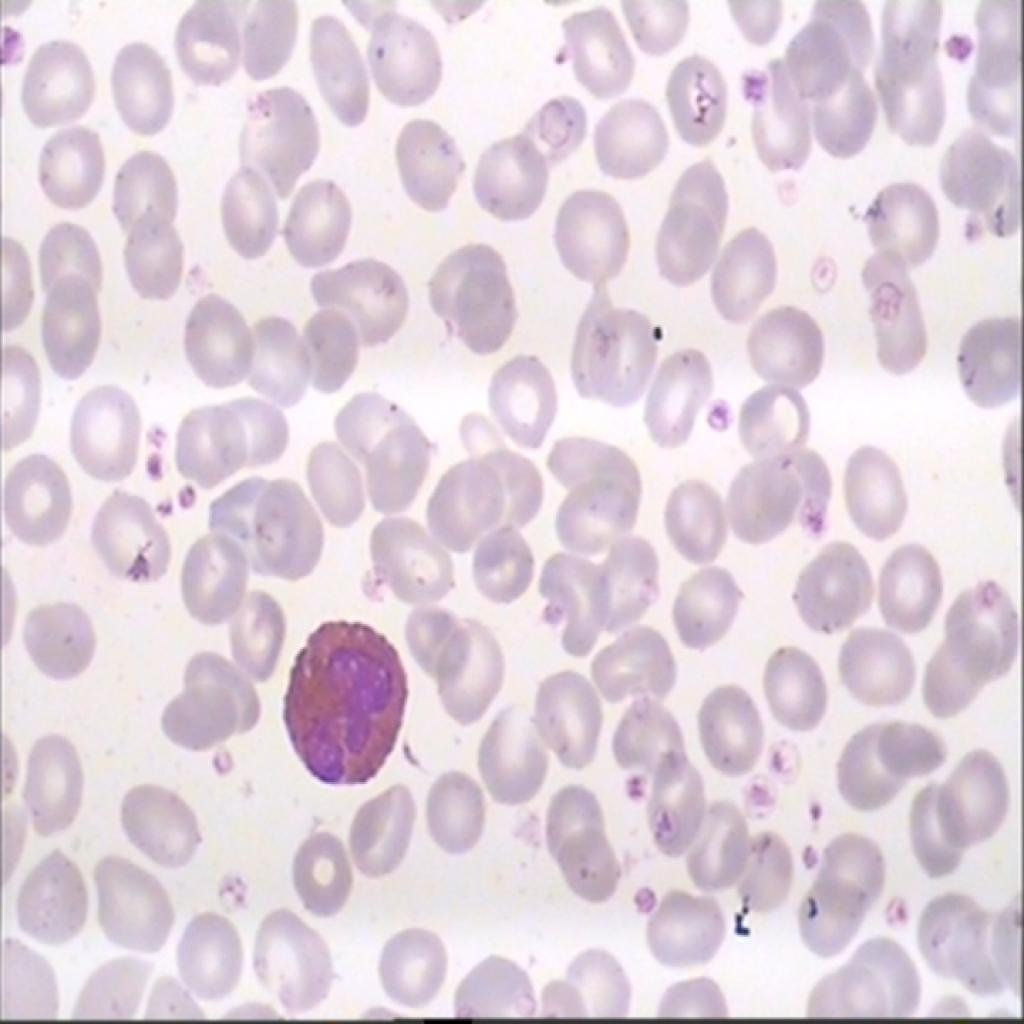Eosinofil: (272, 597, 412, 807)
Platelet: (611, 759, 660, 811), (936, 22, 980, 70), (801, 494, 835, 553), (710, 390, 745, 446), (734, 60, 768, 112), (624, 871, 660, 919), (799, 789, 839, 832), (873, 270, 903, 327), (788, 832, 821, 880), (171, 469, 199, 523), (138, 416, 173, 457), (731, 768, 765, 809), (959, 199, 984, 253), (768, 741, 801, 779), (141, 444, 168, 490), (154, 482, 175, 524), (882, 889, 910, 919), (657, 804, 676, 846)
